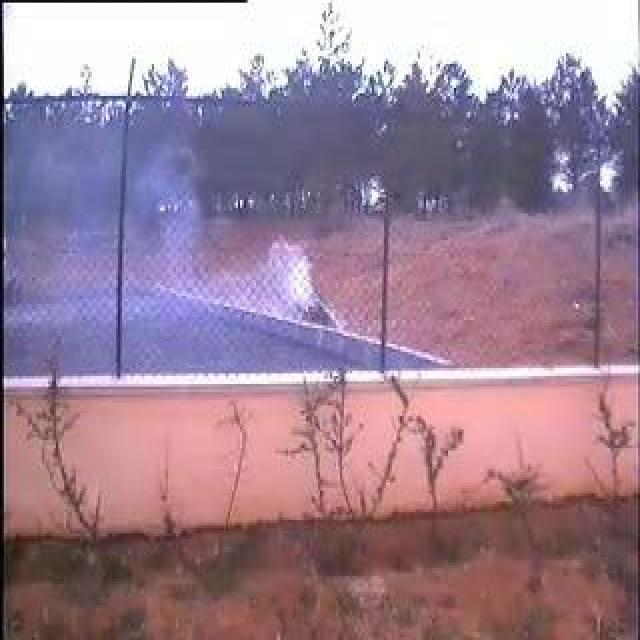Smoke: (122, 122, 322, 370)
